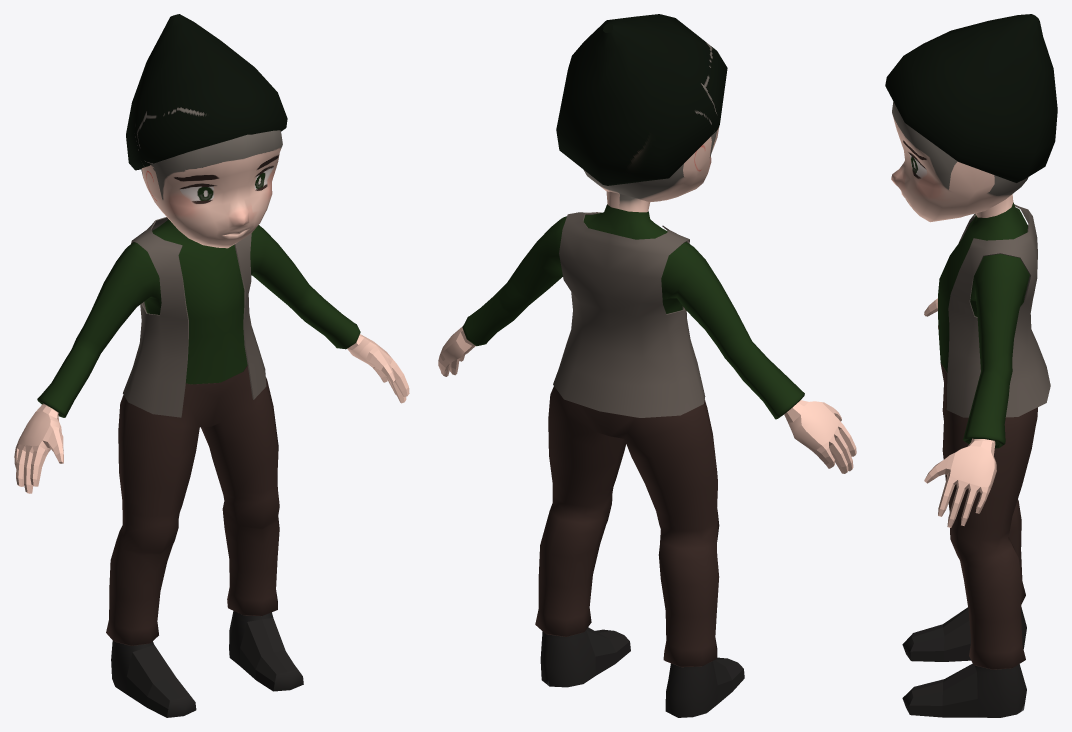
The model's file is C_NPC.1fbx.fbx.
3 renders of one model, left to right at view 1: azimuth 30°, elevation 25°; view 2: azimuth 150°, elevation 25°; view 3: azimuth 270°, elevation 25°, orthographic. The views are drawn at different scales.
Visible parts, largest first — view 1: NPC004; view 2: NPC004; view 3: NPC004.
Boxes of the visible parts, x1,y1,x2,y2 form: NPC004: (14, 14, 409, 717); NPC004: (438, 14, 856, 717); NPC004: (885, 14, 1057, 717).
Bounding box in the file's own units: 60.02 × 96.53 × 22.62.
